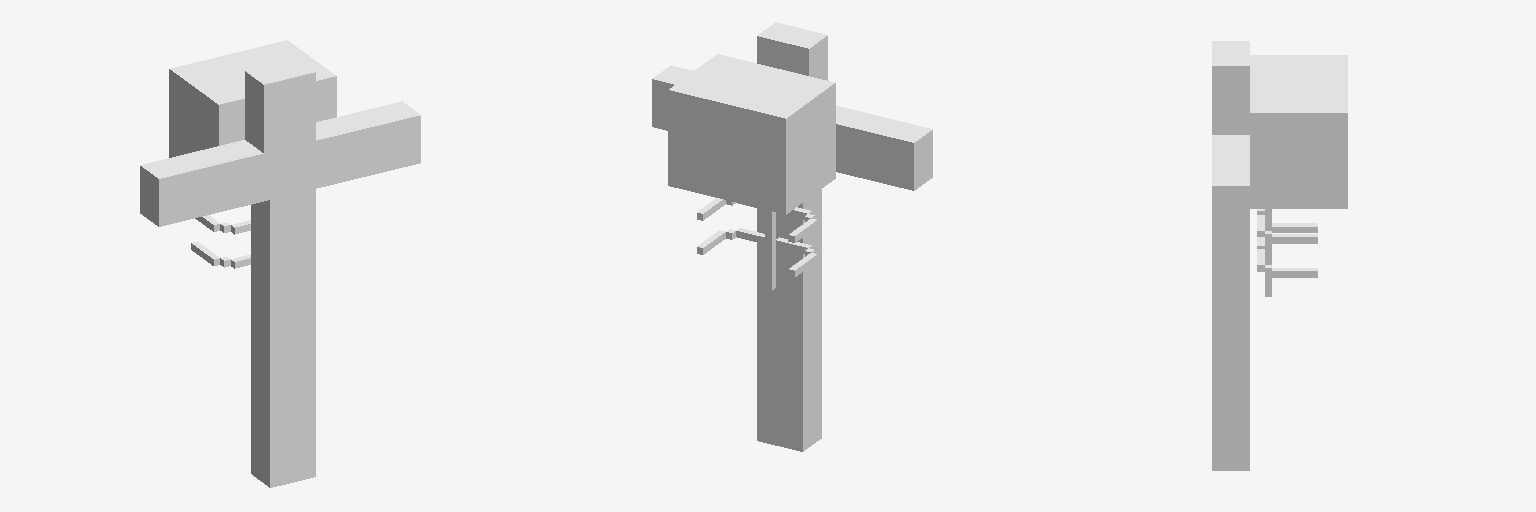
Rendered from Jesus.obj.
The picture shows the model from 3 angles: view 1: azimuth 30°, elevation 25°; view 2: azimuth 150°, elevation 25°; view 3: azimuth 270°, elevation 25°; orthographic projection.
Visible parts, largest first — view 1: object 1; view 2: object 1; view 3: object 1.
Part boxes in pixels (x1,y1,x2,y2): object 1: (140,40,420,487); object 1: (652,22,932,451); object 1: (1212,41,1347,470).
Size of the model in its own units: 4 by 5.9 by 1.8.